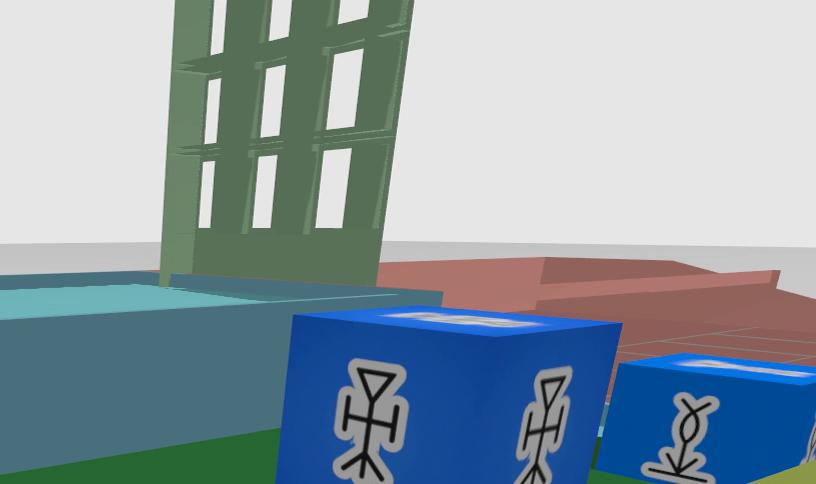KFS_REAL: (274, 305, 619, 484), (597, 352, 815, 484), (334, 360, 408, 484), (641, 391, 719, 484), (513, 366, 572, 484), (557, 392, 560, 403)
